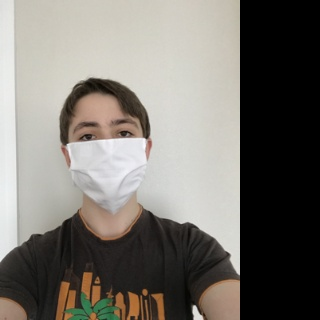with_mask: (65, 111, 149, 216)
